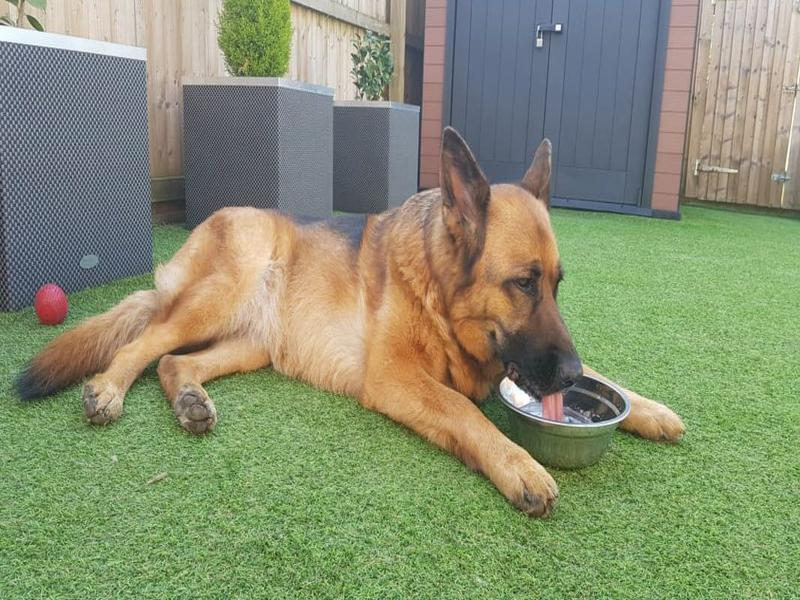dog_down: (10, 123, 685, 515)
